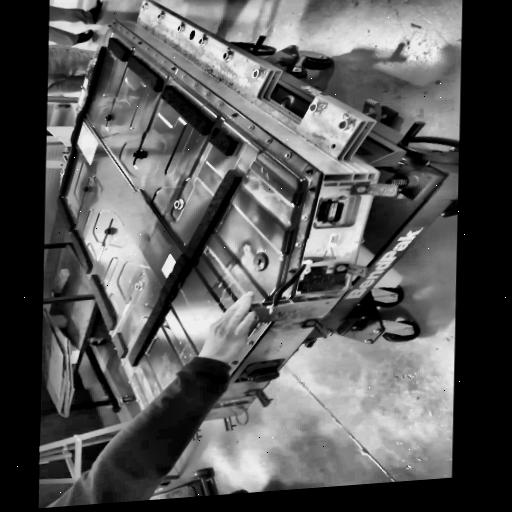b_casing: (50, 16, 321, 444)
